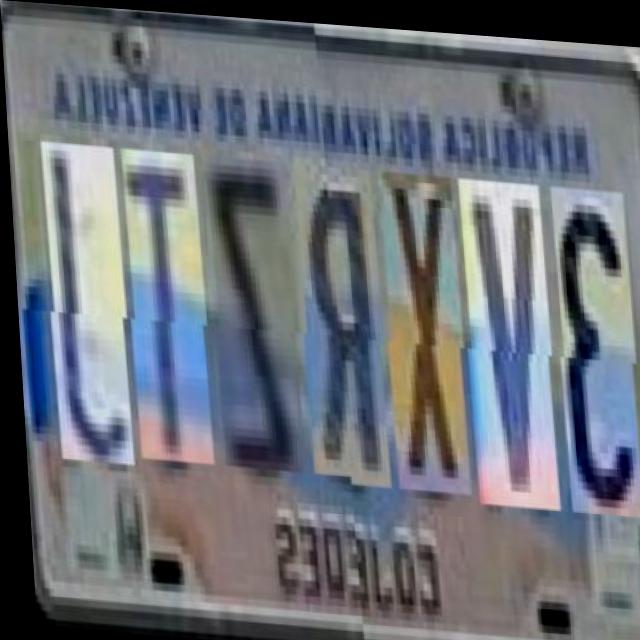3: (544, 178, 637, 509)
j: (34, 150, 128, 473)
r: (287, 160, 385, 483)
t: (114, 156, 207, 471)
v: (452, 172, 553, 503)
x: (370, 166, 464, 489)
z: (199, 161, 299, 477)
